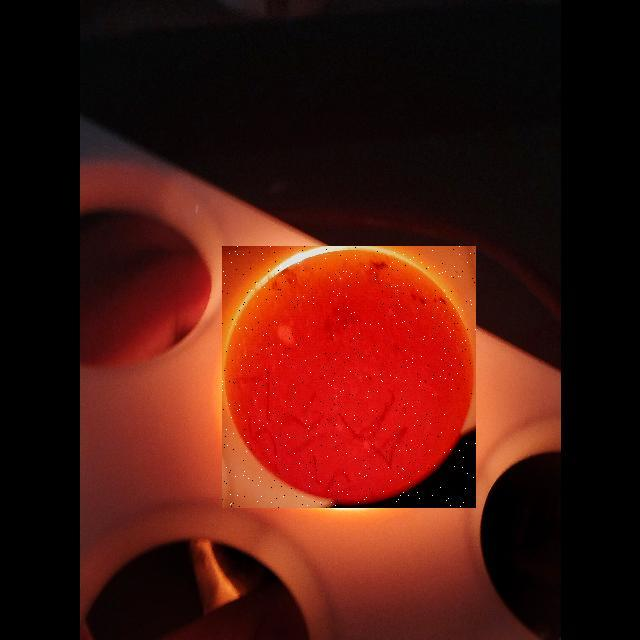Infertile: (222, 246, 476, 508)
